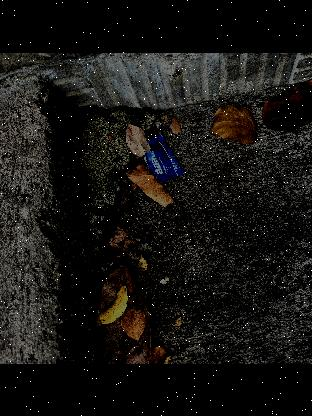Others: (140, 131, 189, 185)
